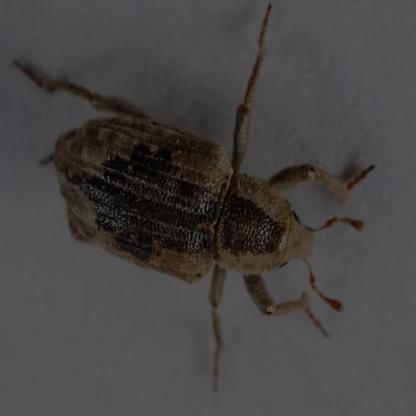rice-bug: (51, 94, 344, 294)
